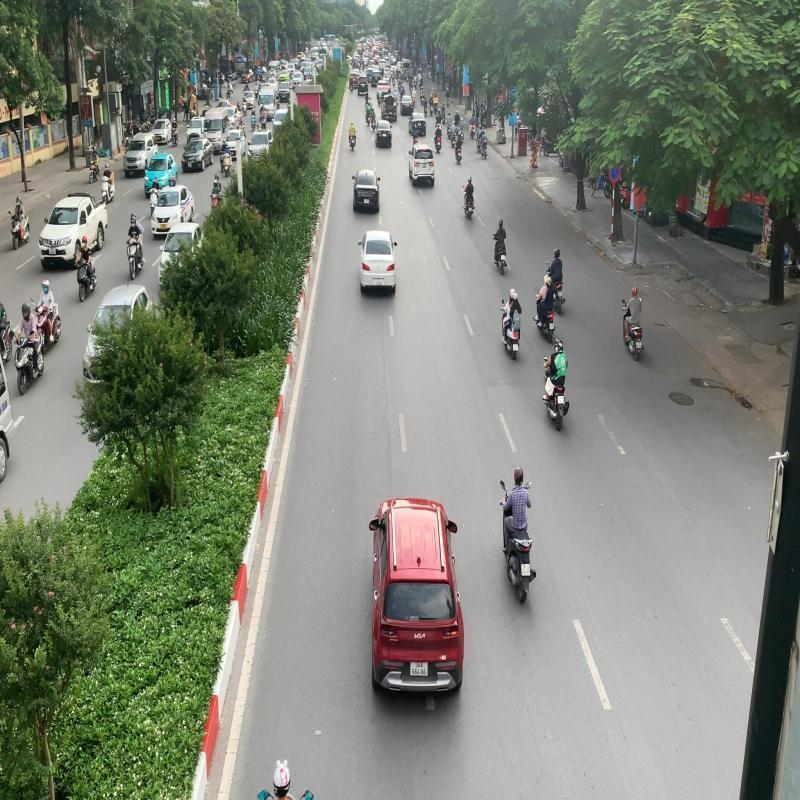helmet: (514, 466, 524, 482), (555, 340, 563, 350), (510, 288, 516, 300), (632, 286, 638, 297), (512, 292, 518, 300)
licenseplate: (521, 562, 531, 578), (558, 395, 564, 404), (636, 342, 642, 349)
motorcyclist: (498, 466, 538, 605), (542, 336, 570, 431), (622, 285, 644, 362), (500, 288, 522, 361)
